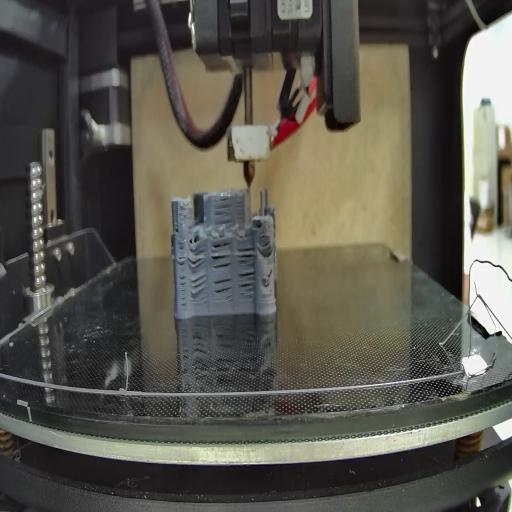cracks: (210, 239, 232, 271), (237, 269, 257, 299), (213, 197, 234, 224), (178, 245, 186, 311), (214, 277, 233, 303), (188, 274, 208, 297), (188, 249, 207, 268), (237, 244, 255, 262), (260, 238, 274, 257), (265, 266, 273, 280), (174, 221, 180, 235)
